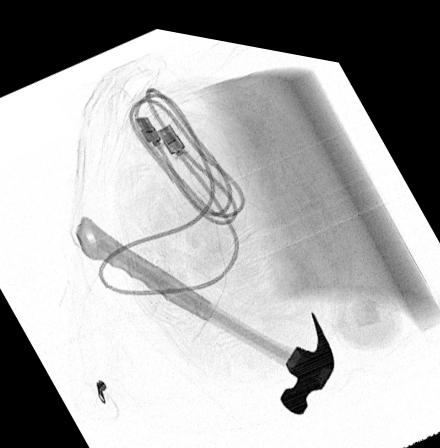Hammer: (75, 212, 336, 403)
